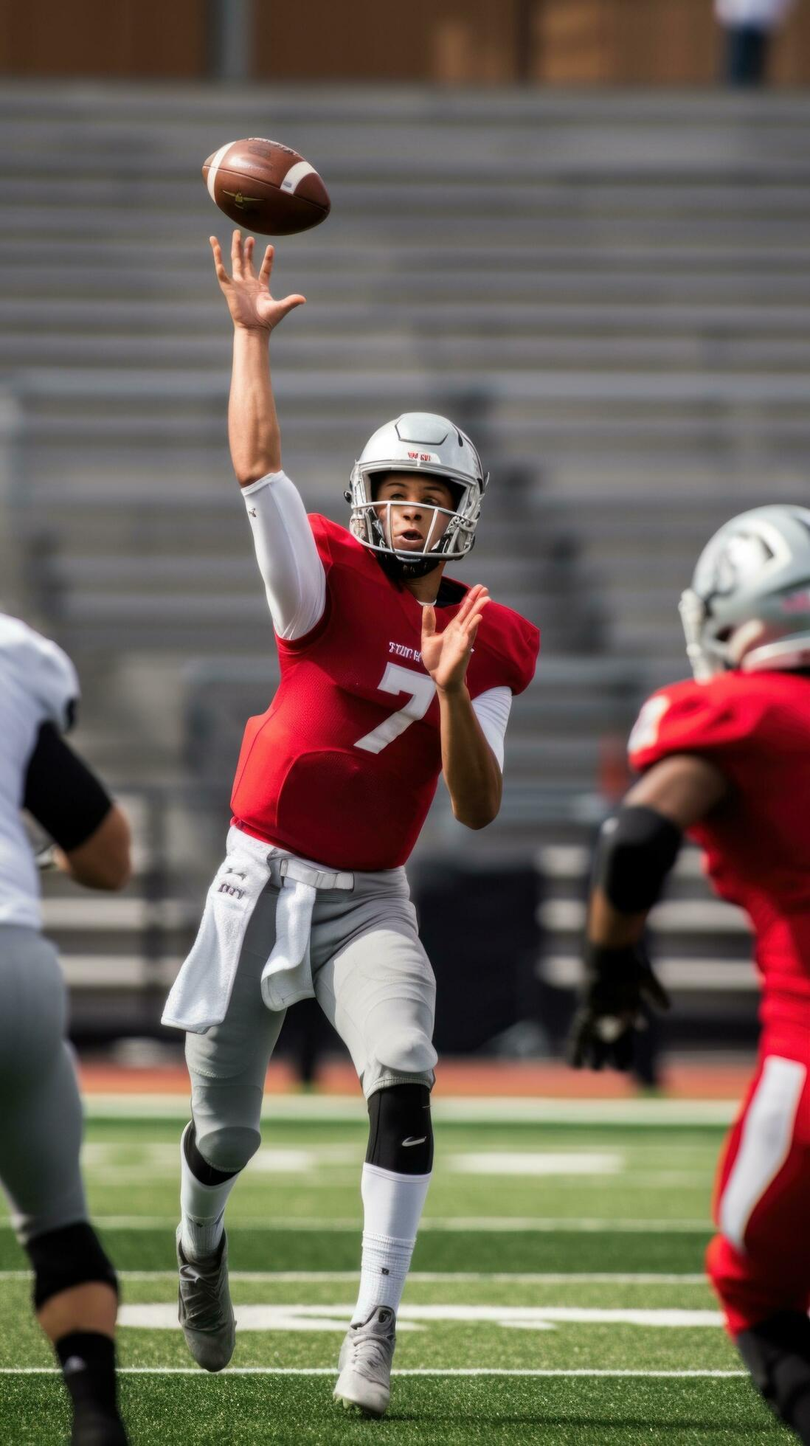americanFootball: (207, 127, 336, 240)
